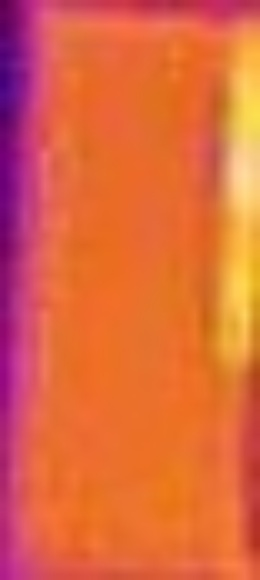Diode: (210, 22, 260, 376)
